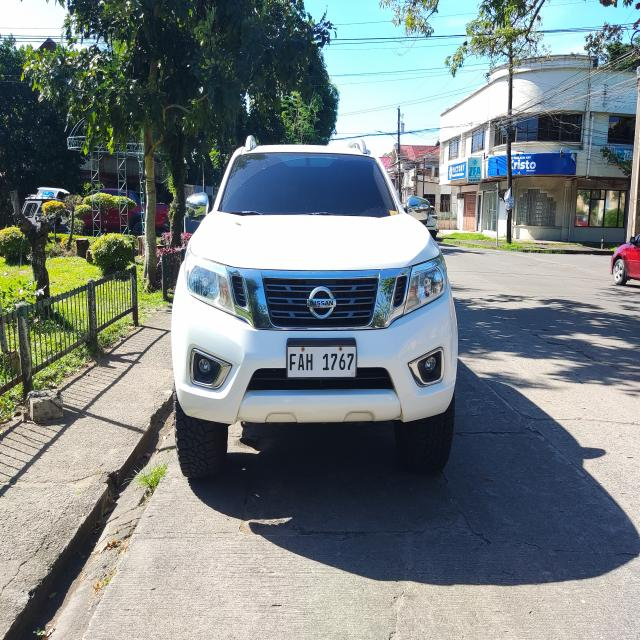plate: (285, 344, 358, 381)
